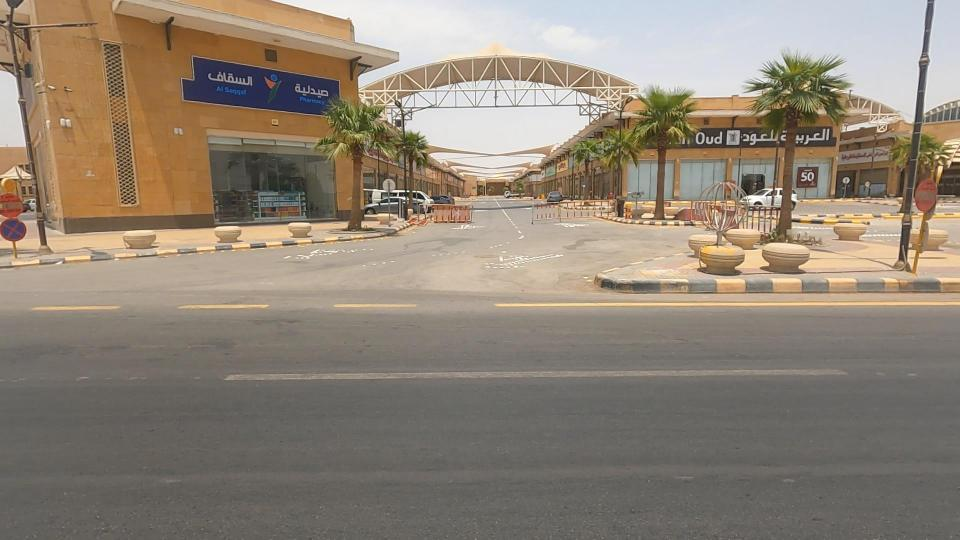FADED_SIGNAGE: (876, 136, 960, 289), (0, 152, 47, 291)
